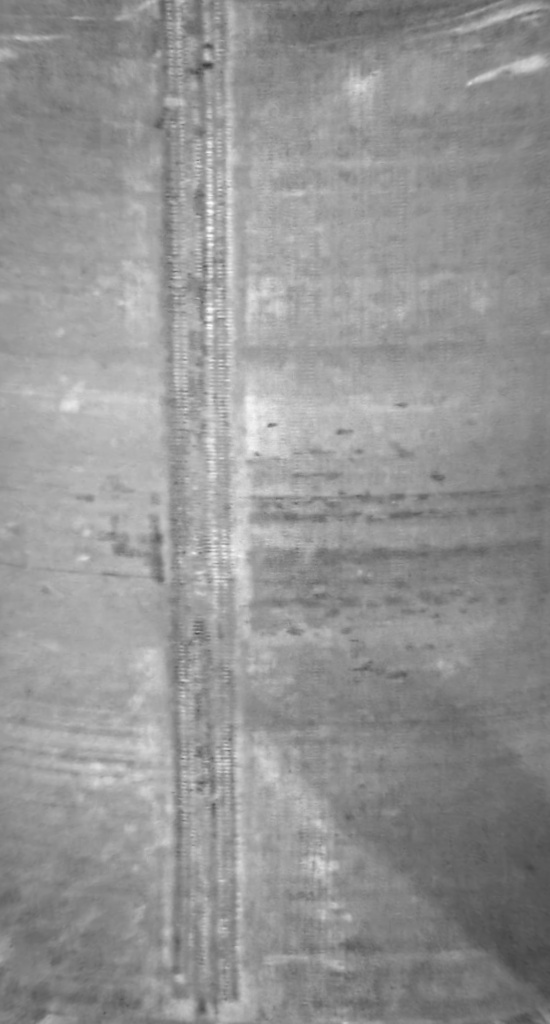splice: (156, 2, 252, 1023)
